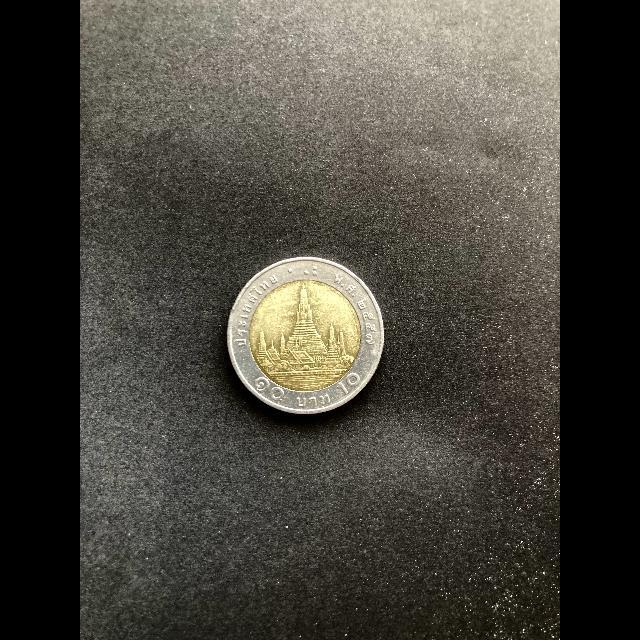10 Bath: (226, 253, 390, 420)
